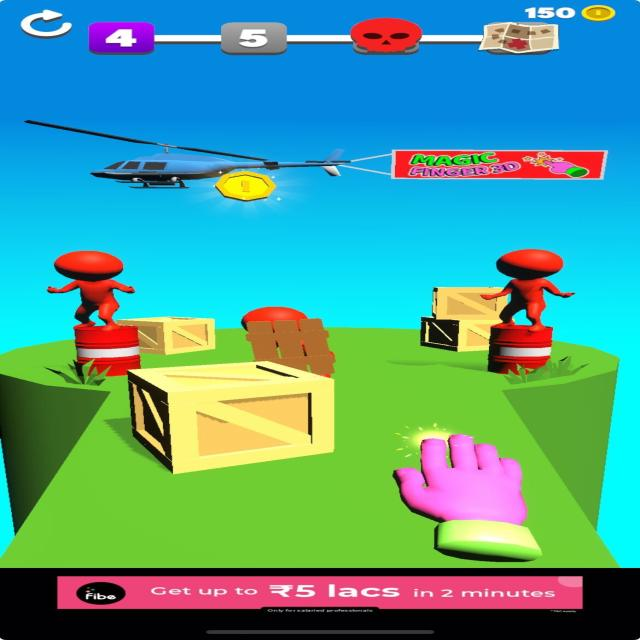billboard: (391, 149, 611, 179)
